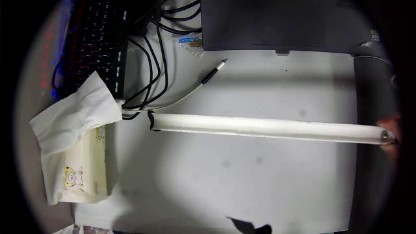gangzhu: (379, 131, 390, 137)
